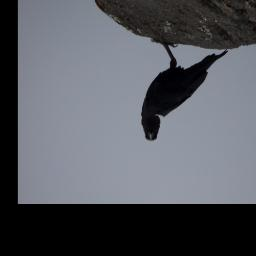Crow: (139, 40, 228, 142)
